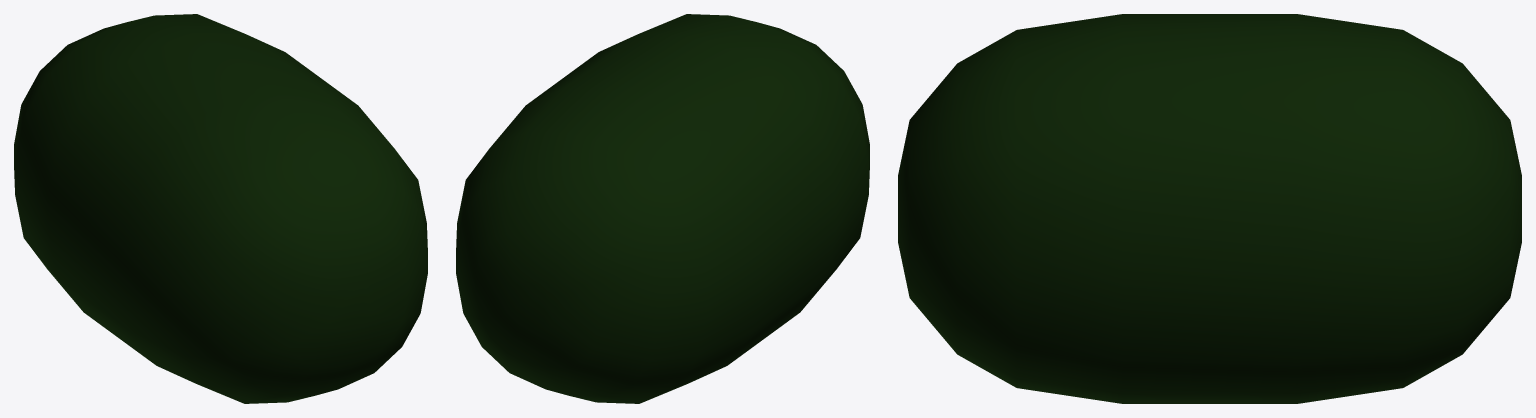
Rendered from MissingIngredients_u.fbx.
3 views of the same model, side by side, from view 1: azimuth 30°, elevation 25°; view 2: azimuth 150°, elevation 25°; view 3: azimuth 270°, elevation 25° (orthographic). The views are drawn at different scales.
Visible parts, largest first — view 1: WatermelonWhole; view 2: WatermelonWhole; view 3: WatermelonWhole.
Boxes of the visible parts, x1,y1,x2,y2 form: WatermelonWhole: [14, 14, 427, 403]; WatermelonWhole: [456, 14, 869, 403]; WatermelonWhole: [898, 14, 1521, 403].
Size of the model in its own units: 11.44 by 11.76 by 18.95.
